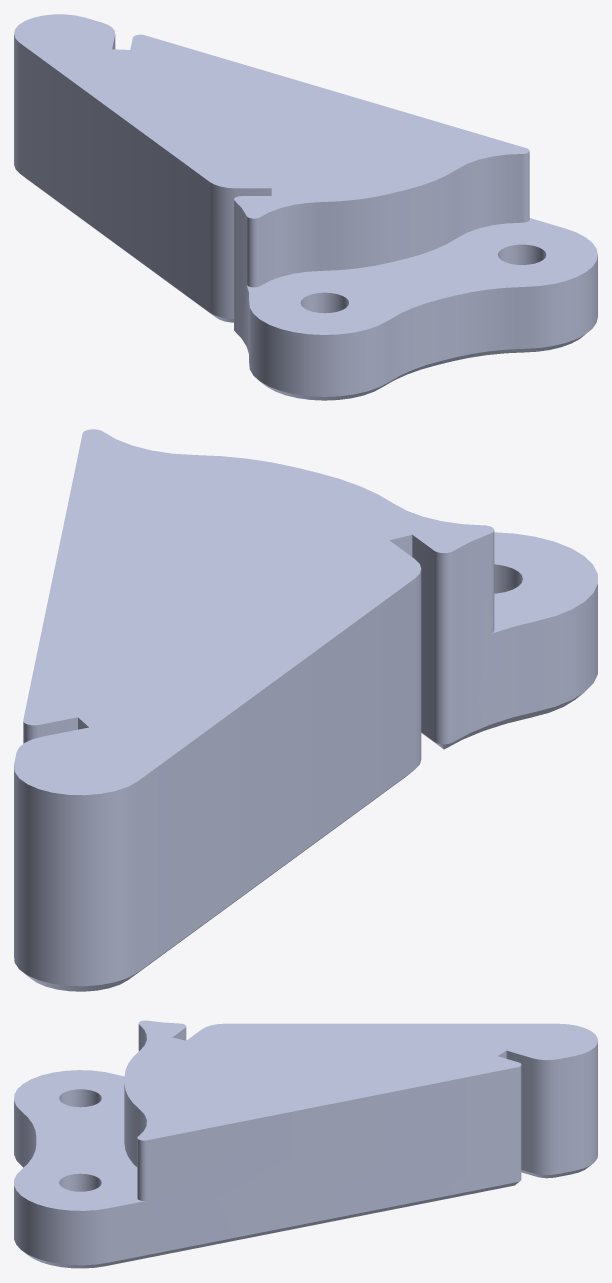
3 views of the same model, one above another, from view 1: azimuth 30°, elevation 25°; view 2: azimuth 150°, elevation 25°; view 3: azimuth 270°, elevation 25° (orthographic). The views are drawn at different scales.
Parts seen in each view (by area): view 1: node0; view 2: node0; view 3: node0.
Boxes of the visible parts, <box> form: node0: <box>14,14,597,400</box>; node0: <box>14,429,597,991</box>; node0: <box>14,1020,597,1268</box>.
Bounding box in the file's own units: 0.025 × 0.01 × 0.0438.
